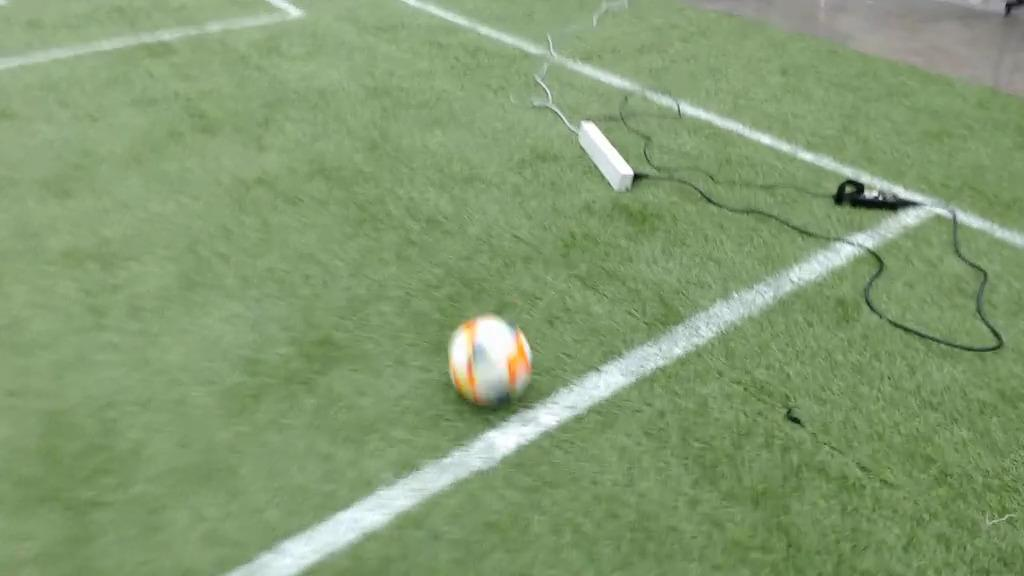ball: (448, 315, 533, 409)
